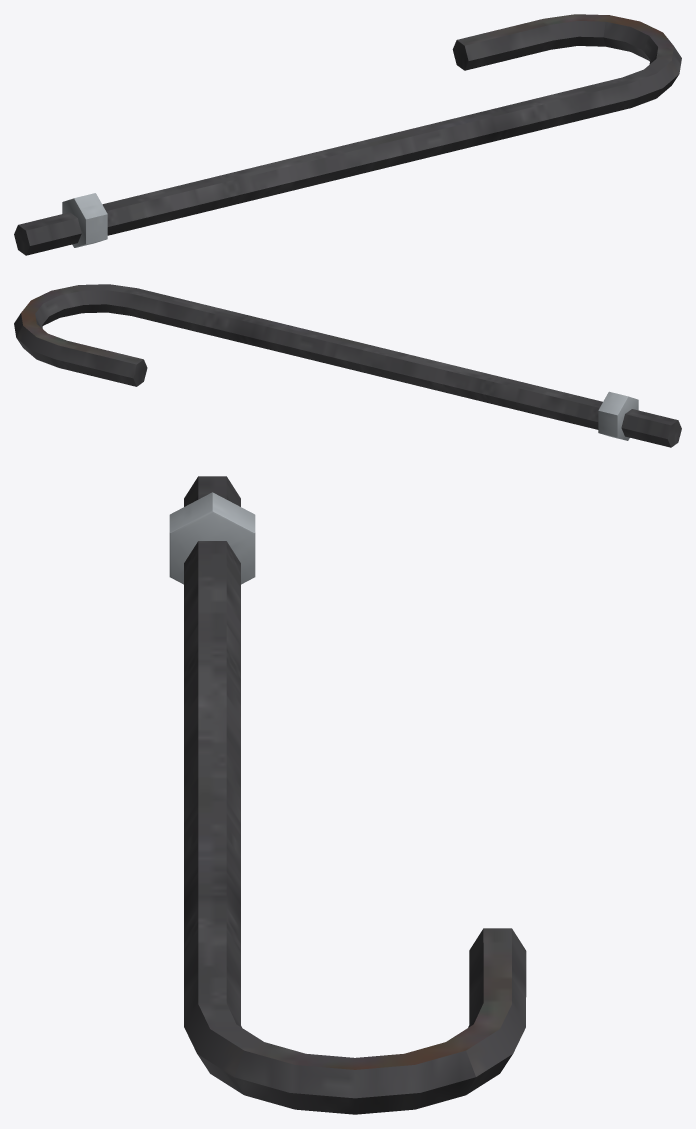
The model's file is EST-MET-007.glb.
The picture shows the model from 3 angles, top to bottom: view 1: azimuth 30°, elevation 25°; view 2: azimuth 150°, elevation 25°; view 3: azimuth 270°, elevation 25°; orthographic projection. The views are drawn at different scales.
Parts seen in each view (by area): view 1: EST-MET-007_chumbador, EST-MET-007_porca; view 2: EST-MET-007_chumbador, EST-MET-007_porca; view 3: EST-MET-007_chumbador, EST-MET-007_porca.
Boxes of the visible parts, <box> form: EST-MET-007_chumbador: <box>14,14,681,255</box>; EST-MET-007_porca: <box>62,193,107,247</box>; EST-MET-007_chumbador: <box>14,284,681,447</box>; EST-MET-007_porca: <box>598,391,638,440</box>; EST-MET-007_chumbador: <box>184,476,526,1114</box>; EST-MET-007_porca: <box>169,492,255,584</box>.
Bounding box in the file's own units: 0.398 × 0.0277 × 0.1.
2 materials, 2 textured.
